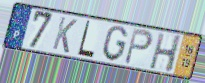7: (27, 8, 55, 50)
G: (101, 25, 130, 63)
H: (148, 32, 183, 75)
K: (50, 15, 79, 55)
L: (76, 19, 96, 59)
P: (122, 28, 154, 67)
